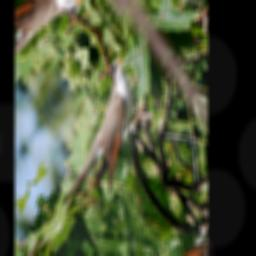Cuckoo: (39, 51, 162, 239)
